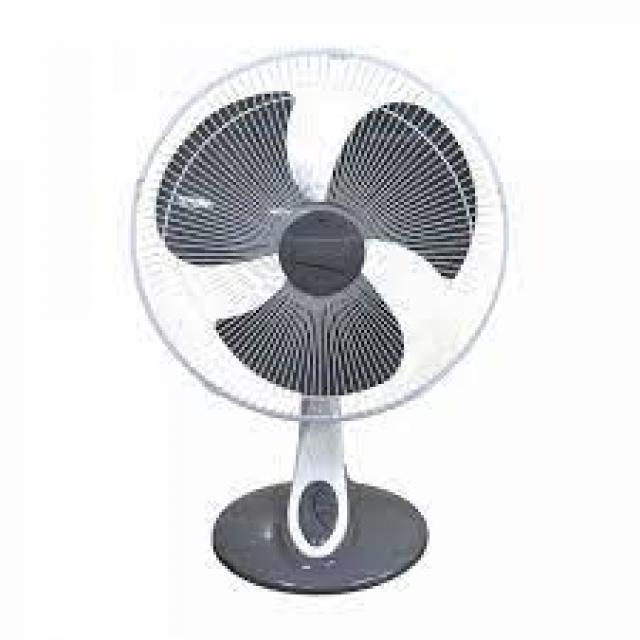fan: (130, 30, 538, 609)
